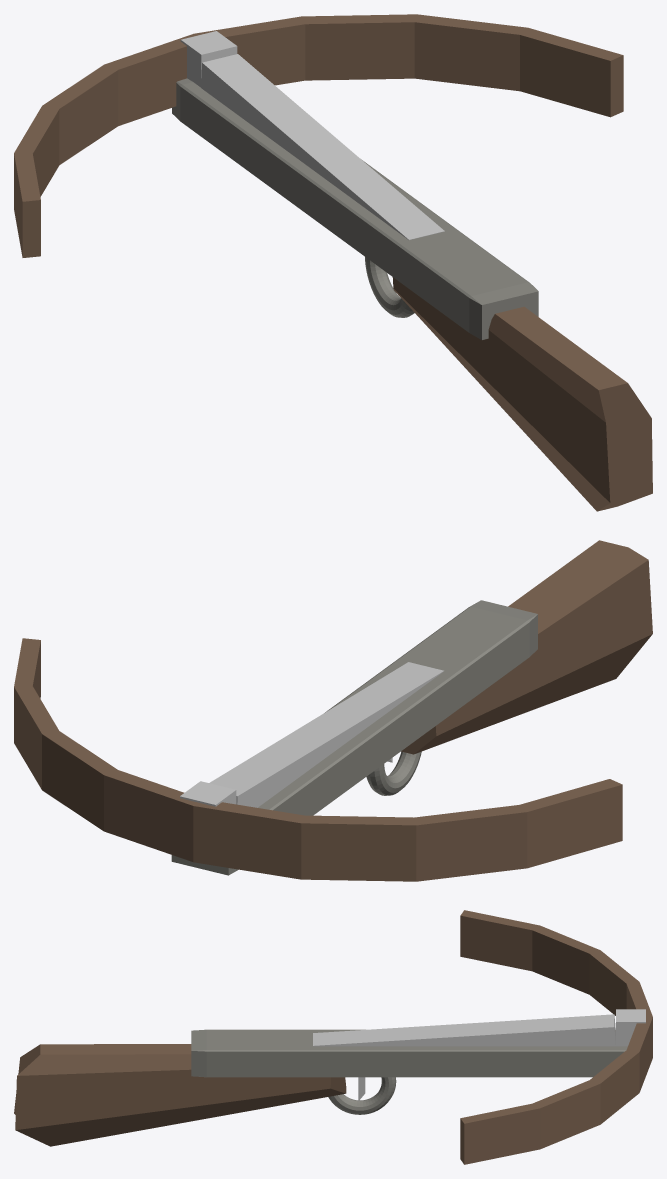
Rendered from Glad Crossbow.fbx.
The picture shows the model from 3 angles, top to bottom: view 1: azimuth 30°, elevation 25°; view 2: azimuth 150°, elevation 25°; view 3: azimuth 270°, elevation 25°; orthographic projection. The views are drawn at different scales.
Visible parts, largest first — view 1: Cube, Cube.002, Cube.001, Cube.004, Cube.003, Torus; view 2: Cube, Cube.002, Cube.001, Cube.004, Torus, Cube.003; view 3: Cube.002, Cube, Cube.001, Cube.004, Torus, Cube.003.
Boxes of the visible parts, box(x1,y1,x2,y2) form: Cube: box(14, 14, 623, 257); Cube.002: box(392, 277, 652, 511); Cube.001: box(172, 78, 538, 339); Cube.004: box(201, 54, 444, 240); Cube.003: box(180, 31, 237, 87); Torus: box(365, 257, 414, 317); Cube: box(14, 638, 622, 881); Cube.002: box(401, 540, 652, 754); Cube.001: box(171, 600, 537, 875); Cube.004: box(209, 662, 443, 807); Torus: box(366, 751, 421, 795); Cube.003: box(180, 781, 236, 806); Cube.002: box(14, 1044, 346, 1146); Cube: box(460, 910, 652, 1164); Cube.001: box(191, 1029, 627, 1077); Cube.004: box(313, 1014, 615, 1046); Torus: box(328, 1077, 396, 1114); Cube.003: box(616, 1009, 645, 1046).
Bounding box in the file's own units: 3346 × 929 × 4228.
